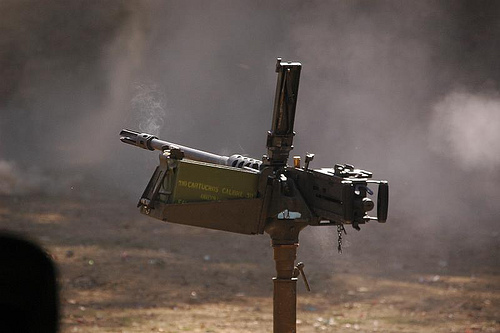rifle: (94, 45, 439, 288)
